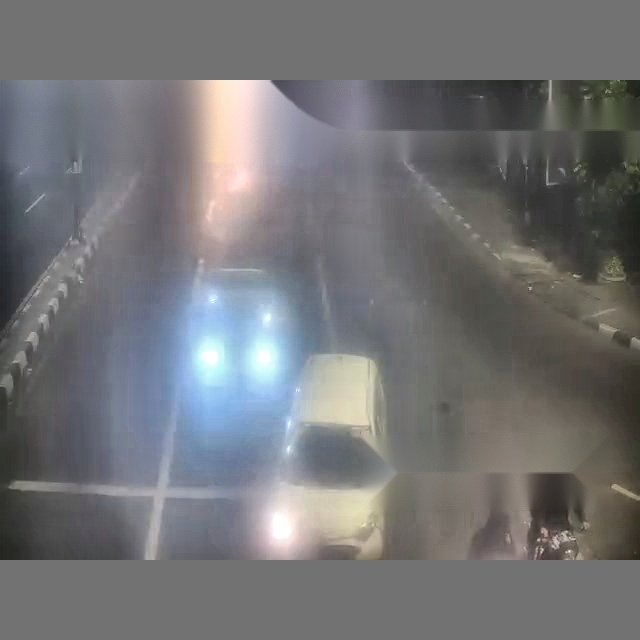Mobil: (278, 354, 401, 557)
